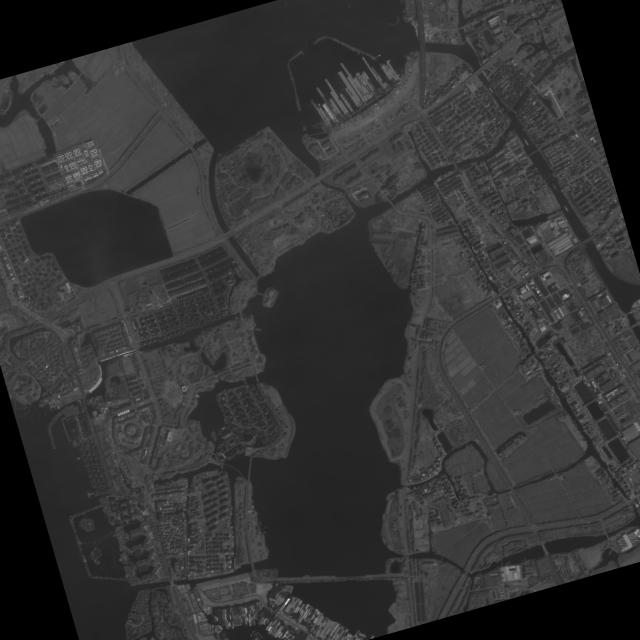ship: (523, 138, 529, 146), (552, 183, 558, 191), (487, 85, 493, 93), (563, 205, 568, 211)
